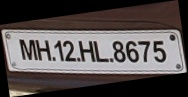character: (18, 37, 38, 61), (77, 39, 96, 62), (34, 37, 52, 61), (92, 39, 109, 62), (62, 38, 77, 61), (125, 39, 139, 63), (152, 38, 166, 62), (112, 39, 126, 62), (53, 38, 66, 61), (137, 39, 150, 62)
